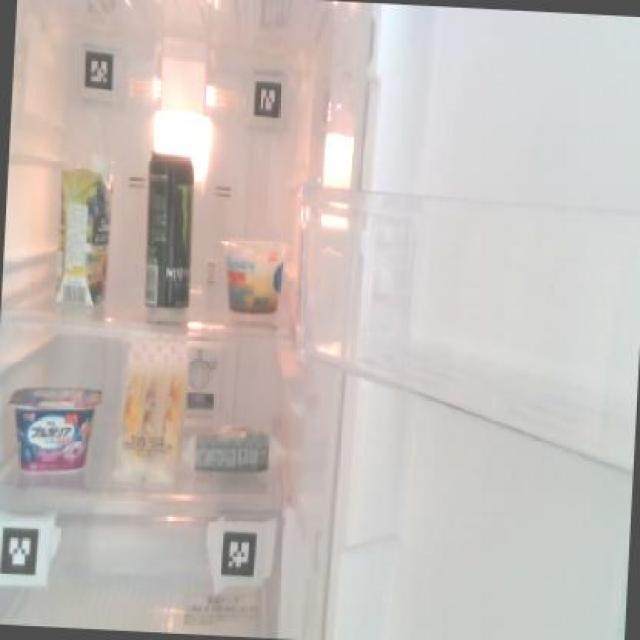energy_drink: (140, 146, 197, 311)
pudding: (218, 227, 285, 316)
rice_ball: (187, 418, 278, 474)
sandwich: (109, 336, 189, 487)
smoothie: (49, 146, 117, 308)
yogurt: (6, 382, 102, 480)
